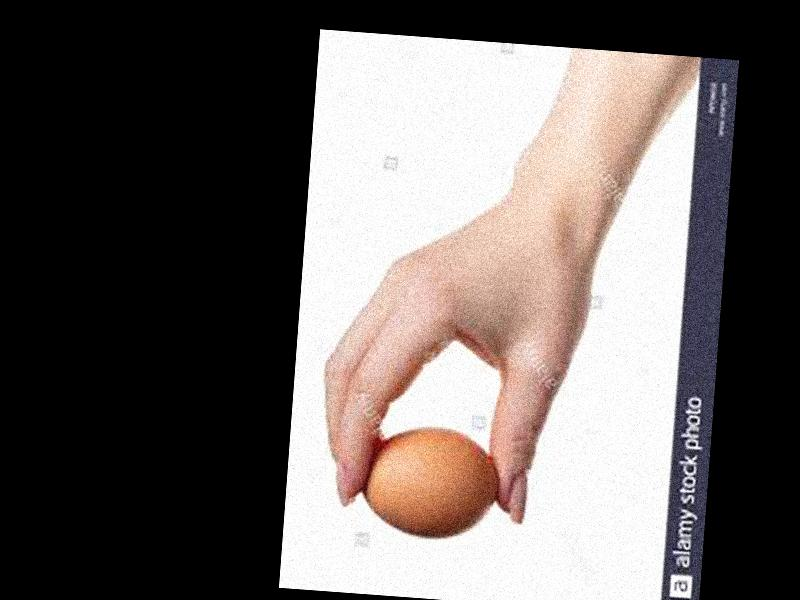Eggs: (359, 417, 501, 543)
